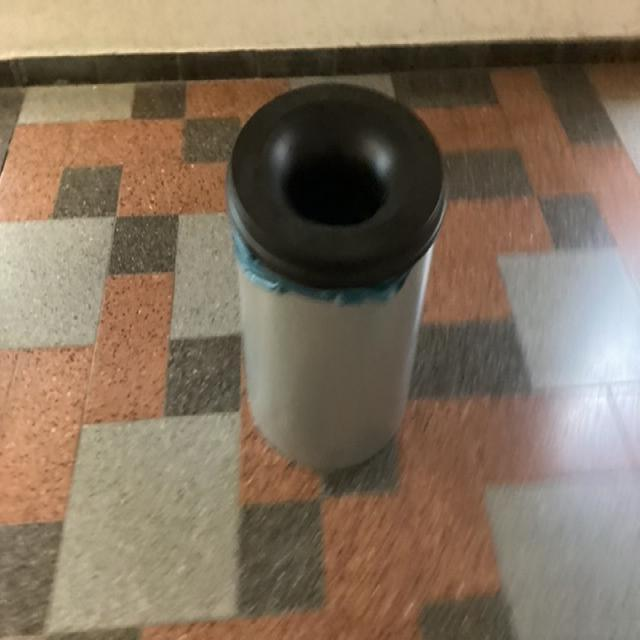garbage container: (189, 52, 505, 510)
